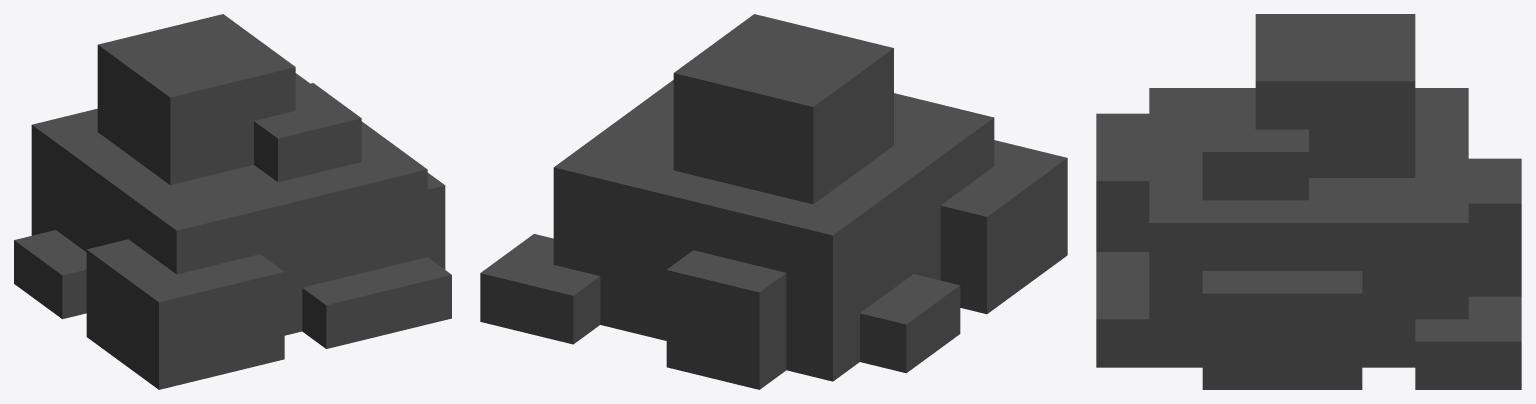
Rendered from stone-3.gltf.
3 views of the same model, side by side, from view 1: azimuth 30°, elevation 25°; view 2: azimuth 150°, elevation 25°; view 3: azimuth 270°, elevation 25° (orthographic). The views are drawn at different scales.
Parts seen in each view (by area): view 1: stone-3; view 2: stone-3; view 3: stone-3.
Part boxes in pixels (box(x1,y1,x2,y2)): stone-3: box(14, 14, 451, 389); stone-3: box(480, 14, 1067, 389); stone-3: box(1096, 14, 1521, 389).
Bounding box in the file's own units: 0.8 × 0.5 × 0.8.
1 material, 1 textured.
